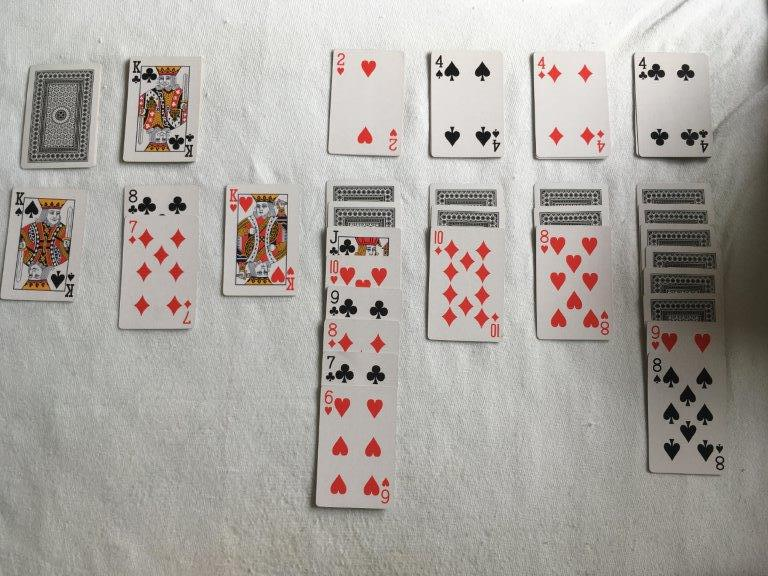10D: (431, 226, 447, 257)
10H: (328, 255, 340, 285)
2H: (334, 49, 348, 79)
4C: (636, 53, 650, 83)
4D: (535, 53, 552, 83)
4S: (433, 51, 447, 82)
6H: (321, 385, 338, 419)
7C: (324, 351, 339, 384)
7D: (127, 216, 140, 248)
8C: (127, 186, 139, 214)
8D: (326, 319, 339, 351)
8H: (537, 226, 553, 255)
8S: (650, 353, 667, 387)
9C: (328, 286, 342, 318)
9H: (649, 321, 662, 353)
BACK: (20, 62, 102, 169), (643, 292, 724, 320), (644, 266, 723, 292), (328, 200, 401, 226), (639, 222, 718, 245), (430, 203, 506, 226), (645, 244, 724, 266), (429, 183, 505, 205), (327, 179, 401, 201), (636, 182, 712, 203), (532, 204, 608, 225), (534, 183, 609, 204), (638, 202, 715, 222)
JC: (328, 227, 341, 256)
KC: (131, 57, 144, 87)
KH: (227, 185, 239, 212)
KS: (13, 188, 27, 218)
